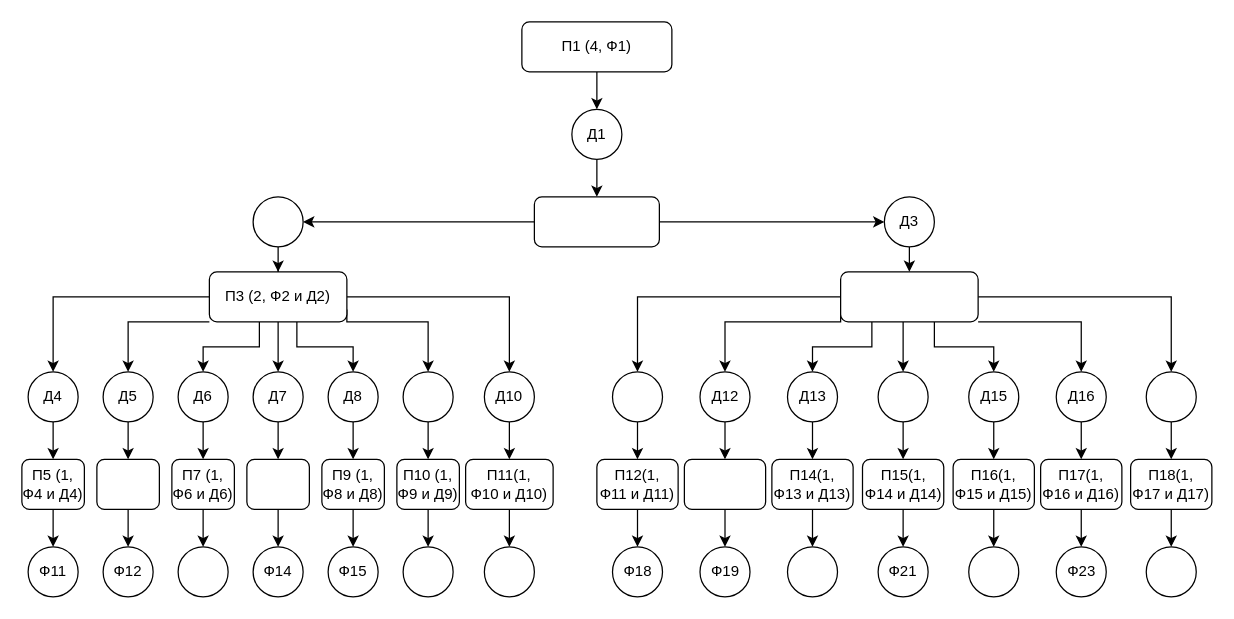
This 1234x619 diagram has some shape labels left out. The centre of each missing label's shape, as x and y in pixels:
Д11: (636,396)
Д14: (902,396)
Д17: (1170,396)
Д2: (277,221)
Д9: (427,396)
П13(1, Ф12 и Д12): (724,483)
П2 (3, Д1): (596,221)
П4 (2, Ф3 и Д3): (908,296)
П6 (1, Ф5 и Д5): (127,483)
П8 (1, Ф7 и Д7): (277,483)
Ф13: (202,571)
Ф16: (427,571)
Ф17: (508,571)
Ф20: (812,571)
Ф22: (993,571)
Ф24: (1170,571)
